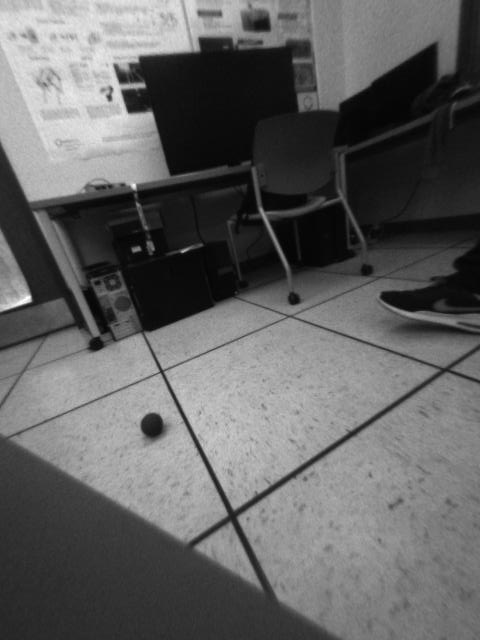dogtoy: (132, 404, 174, 445)
